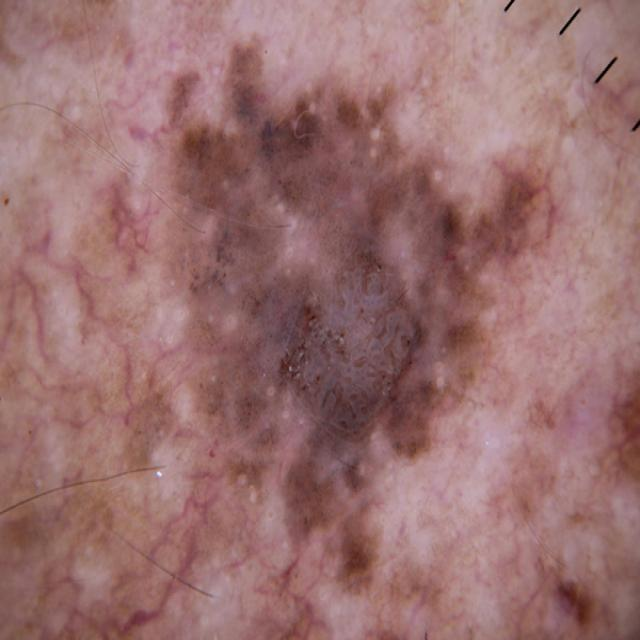Skin-Cancer Pigmented benign keratosis: (0, 5, 640, 640)
